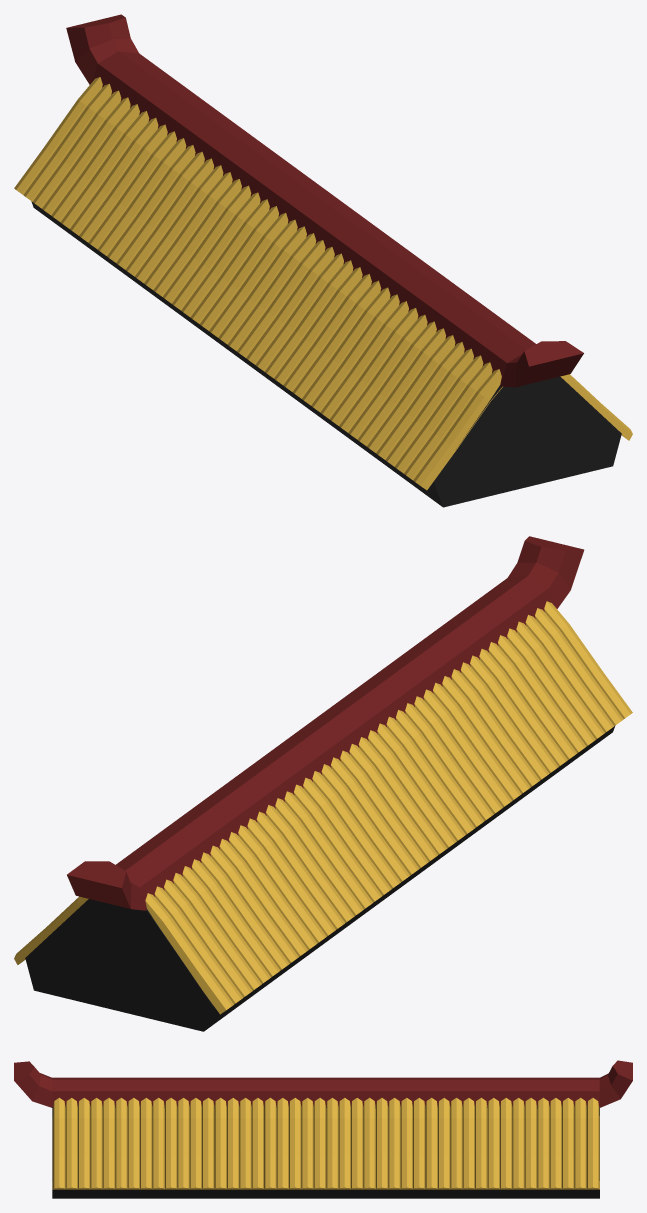
File: Roof1.fbx
3 renders of one model, top to bottom at view 1: azimuth 30°, elevation 25°; view 2: azimuth 150°, elevation 25°; view 3: azimuth 270°, elevation 25°, orthographic. The views are drawn at different scales.
Parts seen in each view (by area): view 1: Plane.003, Plane.001, Cube, Plane.002; view 2: Plane.003, Plane.001, Cube, Plane.002; view 3: Plane.002, Plane.001, Cube.
Part boxes in pixels (x1,y1,x2,y2): Plane.003: (14, 77, 502, 490); Plane.001: (66, 14, 583, 387); Cube: (31, 201, 621, 507); Plane.002: (560, 374, 632, 440); Plane.003: (145, 601, 632, 1014); Plane.001: (67, 536, 584, 910); Cube: (25, 726, 614, 1031); Plane.002: (14, 896, 88, 964); Plane.002: (52, 1097, 599, 1189); Plane.001: (14, 1060, 632, 1107); Cube: (52, 1107, 599, 1198).
Size of the model in its own units: 213 by 148 by 790.
